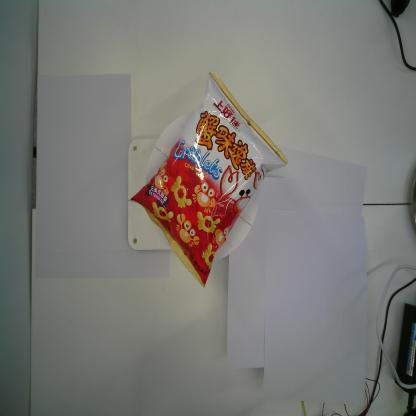Puffed Food: (127, 70, 290, 292)
